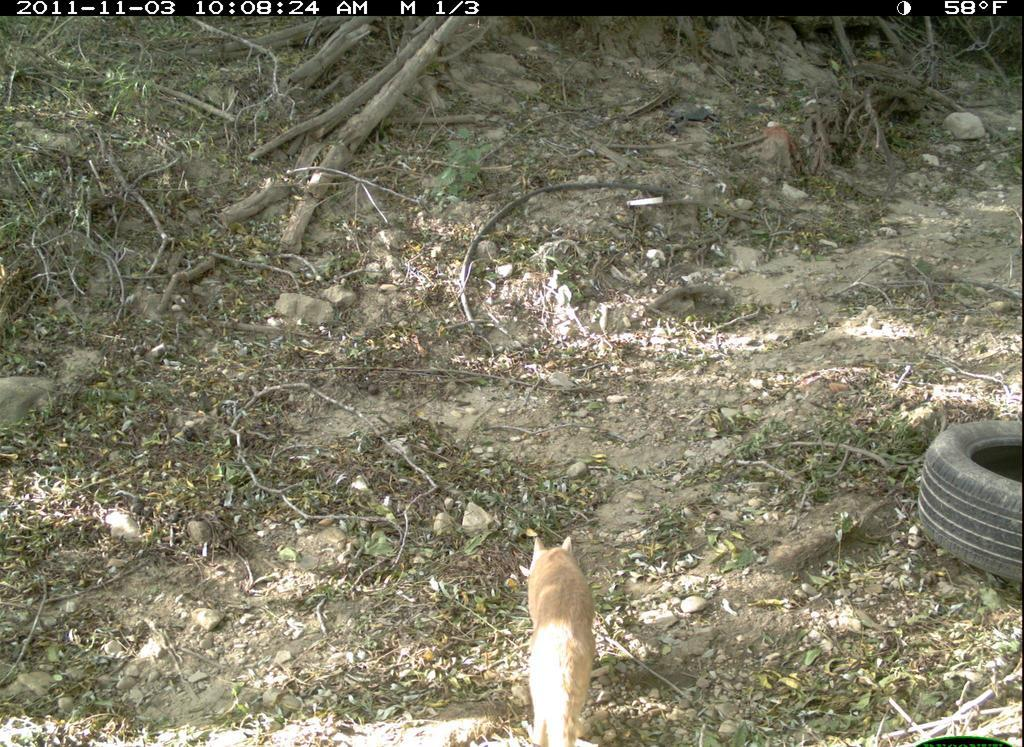cat: (515, 530, 605, 747)
